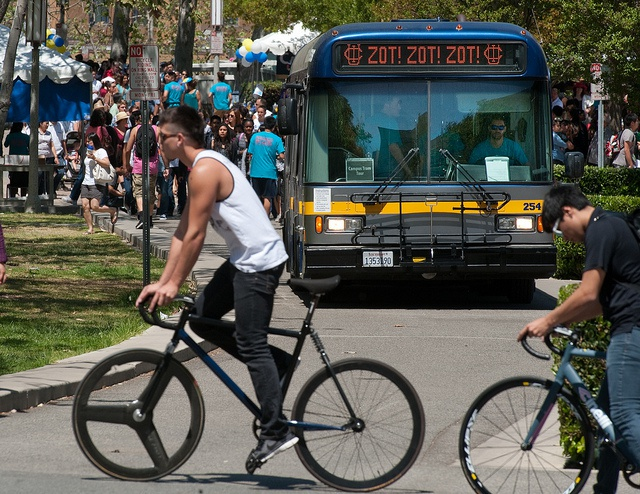non-vehicle: (74, 274, 424, 492), (459, 326, 637, 494)
